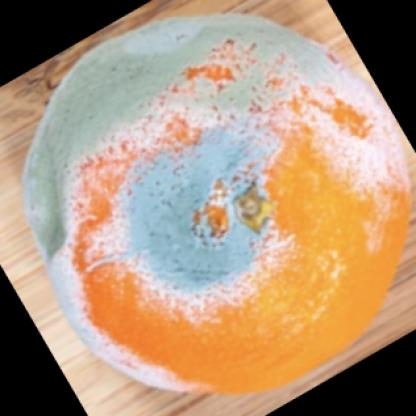rotten: (24, 16, 411, 395)
